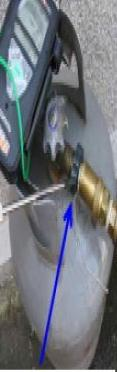cylinder: (1, 1, 117, 372)
